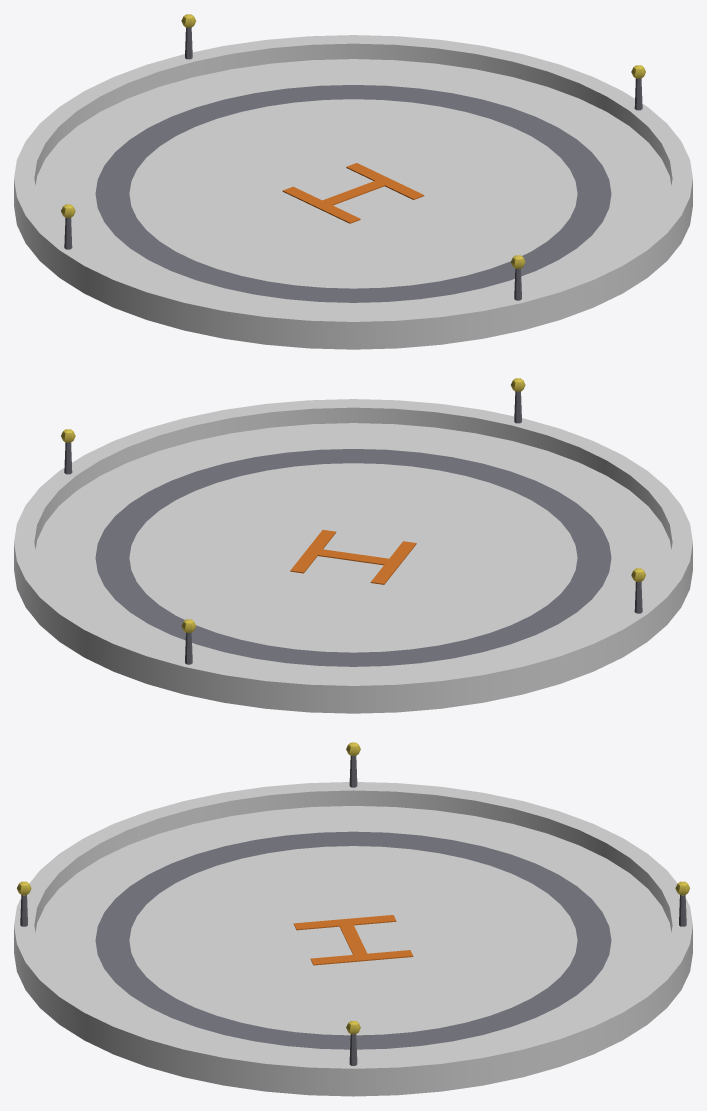
Rendered from landing_pad.glb.
3 renders of one model, top to bottom at view 1: azimuth 30°, elevation 25°; view 2: azimuth 150°, elevation 25°; view 3: azimuth 270°, elevation 25°, orthographic.
Visible parts, largest first — view 1: landing_pad; view 2: landing_pad; view 3: landing_pad.
Boxes of the visible parts, x1,y1,x2,y2 form: landing_pad: (14, 14, 692, 349); landing_pad: (14, 378, 692, 713); landing_pad: (14, 742, 692, 1096).
Size of the model in its own units: 20 by 2.32 by 20.
